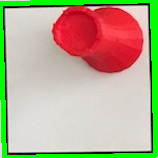Red Castle: (52, 4, 144, 77)
